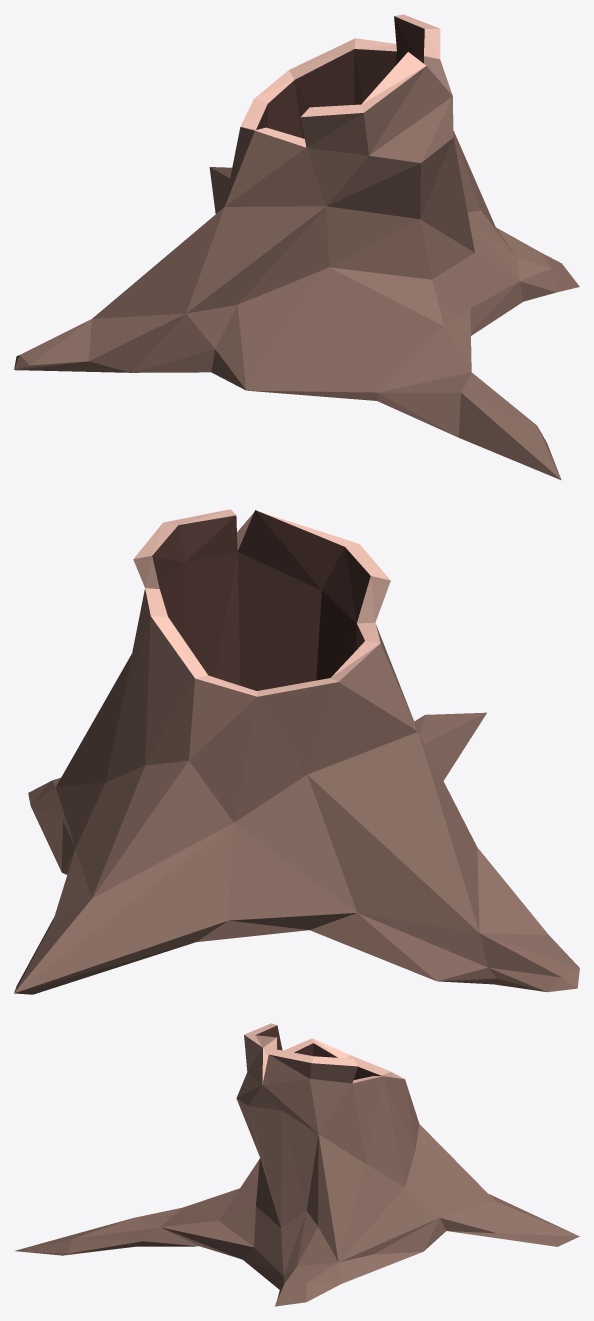
File: fantasy_plant_007.fbx
3 views of the same model, one above another, from view 1: azimuth 30°, elevation 25°; view 2: azimuth 150°, elevation 25°; view 3: azimuth 270°, elevation 25° (orthographic). The views are drawn at different scales.
Parts seen in each view (by area): view 1: fantasy_plant.007; view 2: fantasy_plant.007; view 3: fantasy_plant.007.
Boxes of the visible parts, x1=… form: fantasy_plant.007: x1=14, y1=14, x2=579, y2=480; fantasy_plant.007: x1=14, y1=509, x2=579, y2=994; fantasy_plant.007: x1=15, y1=1023, x2=579, y2=1306.
Bounding box in the file's own units: 309 × 174 × 397.
1 material, 1 textured.
